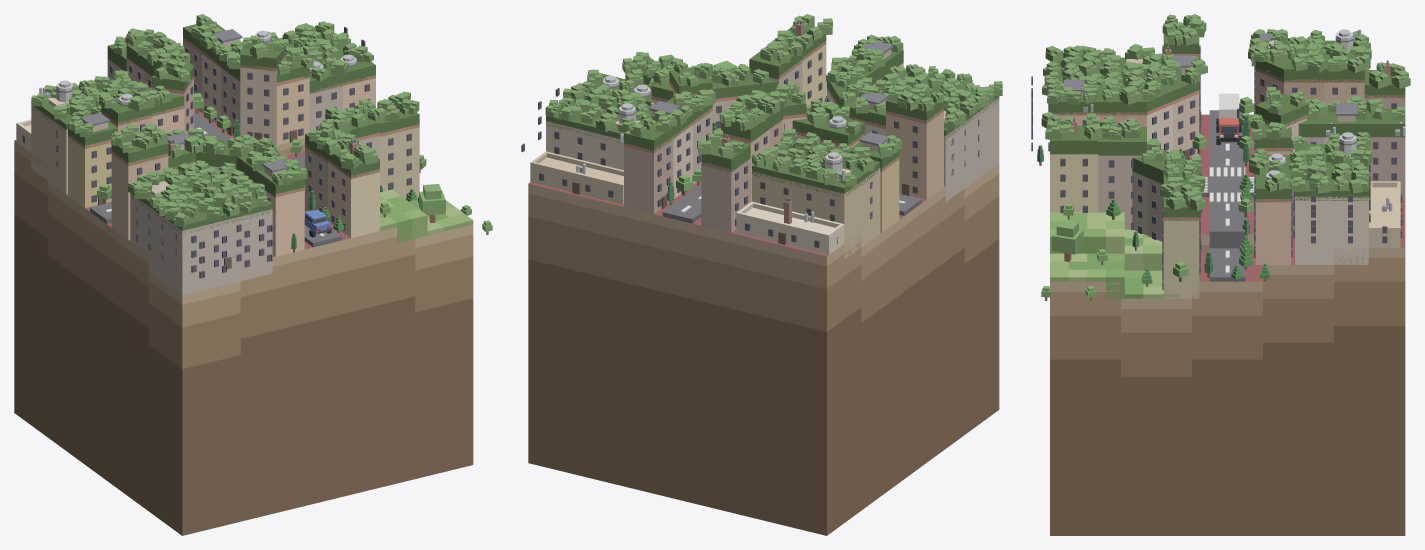
The model's file is block_15_greenroof_65.glb.
The picture shows the model from 3 angles, left to right: view 1: azimuth 30°, elevation 25°; view 2: azimuth 150°, elevation 25°; view 3: azimuth 270°, elevation 25°; orthographic projection. The views are drawn at different scales.
Visible parts, largest first — view 1: Patch_MidRight_b16_GR, Cerda_MidRight_b16_GR, Insets_MidRight_b16_GR, GR_Roof_Cerda_MidRight_b16_GR, Green_MidRight_b16_GR, CerdaRoofProps_MidRight_b16_GR, GR_Roof_Insets_MidRight_b16_GR, Roads_MidRight_b16_GR, Asset_Tree_Round.063_GR; view 2: Patch_MidRight_b16_GR, Insets_MidRight_b16_GR, Cerda_MidRight_b16_GR, GR_Roof_Cerda_MidRight_b16_GR, CerdaRoofProps_MidRight_b16_GR, GR_Roof_Insets_MidRight_b16_GR, Roads_MidRight_b16_GR; view 3: Patch_MidRight_b16_GR, Cerda_MidRight_b16_GR, GR_Roof_Cerda_MidRight_b16_GR, Insets_MidRight_b16_GR, Green_MidRight_b16_GR, Roads_MidRight_b16_GR, CerdaRoofProps_MidRight_b16_GR, GR_Roof_Insets_MidRight_b16_GR, Asset_Truck.008_GR, Asset_Tree_Round.063_GR, Zebra_MidRight_b16_GR.
Boxes of the visible parts, bbox=[...] form: Patch_MidRight_b16_GR: bbox=[14, 108, 473, 535]; Cerda_MidRight_b16_GR: bbox=[68, 37, 419, 256]; Insets_MidRight_b16_GR: bbox=[16, 27, 365, 295]; GR_Roof_Cerda_MidRight_b16_GR: bbox=[68, 20, 419, 197]; Green_MidRight_b16_GR: bbox=[371, 189, 473, 242]; CerdaRoofProps_MidRight_b16_GR: bbox=[39, 21, 357, 177]; GR_Roof_Insets_MidRight_b16_GR: bbox=[31, 31, 343, 234]; Roads_MidRight_b16_GR: bbox=[90, 112, 342, 247]; Asset_Tree_Round.063_GR: bbox=[419, 184, 445, 222]; Patch_MidRight_b16_GR: bbox=[528, 163, 999, 535]; Insets_MidRight_b16_GR: bbox=[521, 88, 999, 259]; Cerda_MidRight_b16_GR: bbox=[624, 41, 943, 232]; GR_Roof_Cerda_MidRight_b16_GR: bbox=[594, 28, 943, 171]; CerdaRoofProps_MidRight_b16_GR: bbox=[576, 20, 893, 224]; GR_Roof_Insets_MidRight_b16_GR: bbox=[546, 72, 999, 196]; Roads_MidRight_b16_GR: bbox=[662, 184, 921, 223]; Patch_MidRight_b16_GR: bbox=[1050, 114, 1405, 535]; Cerda_MidRight_b16_GR: bbox=[1050, 45, 1405, 298]; GR_Roof_Cerda_MidRight_b16_GR: bbox=[1050, 23, 1405, 220]; Insets_MidRight_b16_GR: bbox=[1031, 42, 1402, 264]; Green_MidRight_b16_GR: bbox=[1050, 212, 1180, 298]; Roads_MidRight_b16_GR: bbox=[1202, 110, 1253, 281]; CerdaRoofProps_MidRight_b16_GR: bbox=[1063, 29, 1405, 211]; GR_Roof_Insets_MidRight_b16_GR: bbox=[1050, 40, 1368, 200]; Asset_Truck.008_GR: bbox=[1216, 93, 1241, 144]; Asset_Tree_Round.063_GR: bbox=[1052, 220, 1083, 261]; Zebra_MidRight_b16_GR: bbox=[1202, 167, 1254, 202].
Bounding box in the file's own units: 10.29 × 11.54 × 10.15.
